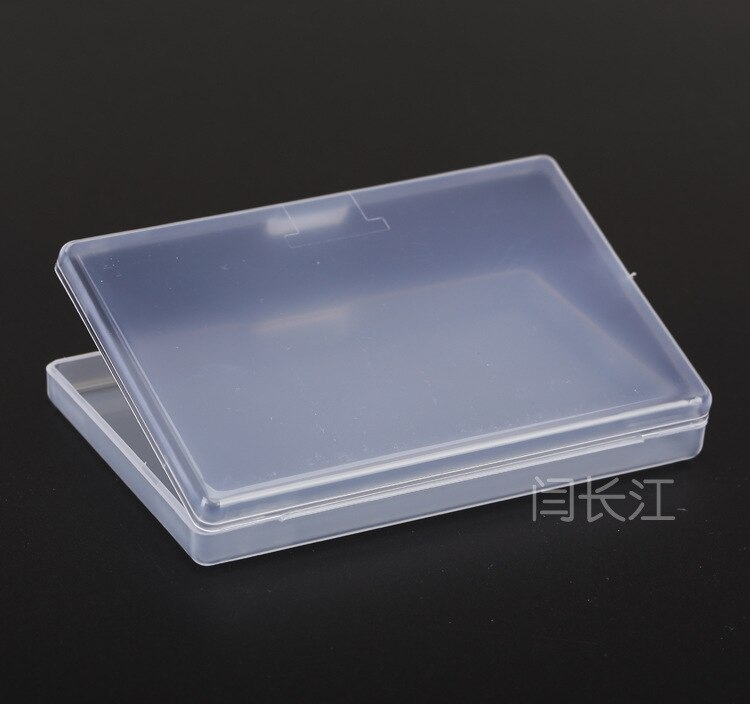PlasticBox: (39, 149, 716, 574)
